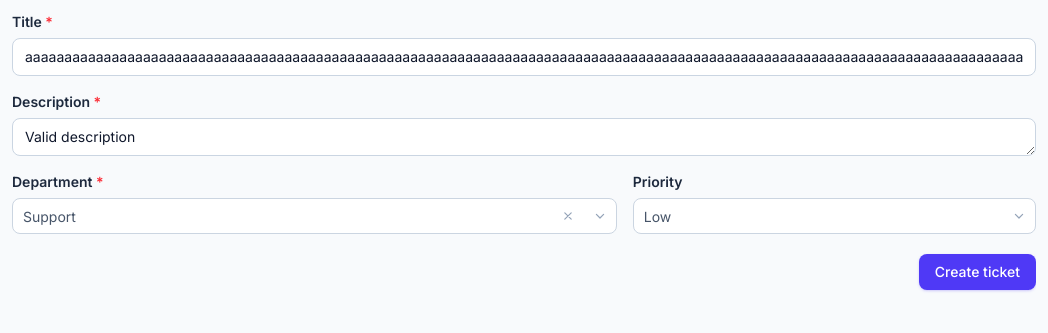
TicketForm › rejects a title over 200 characters
Click the button "Create ticket".
click(977, 272)  # box [919, 254, 1036, 290]
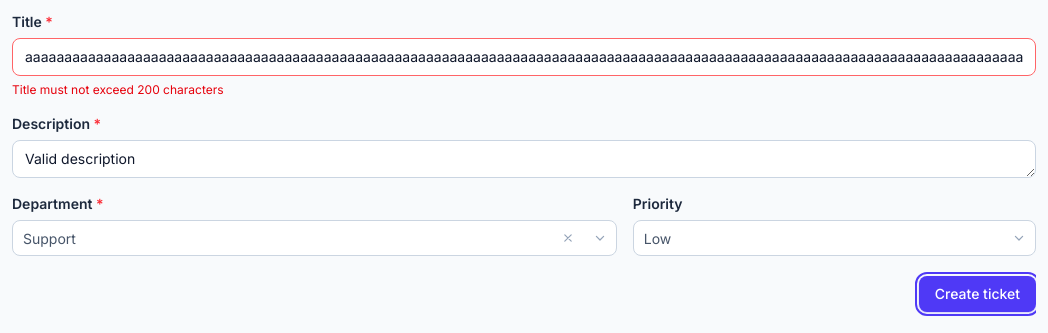
Result: the text "Title must not exceed 200 characters" is shown at [12, 82, 224, 97]
